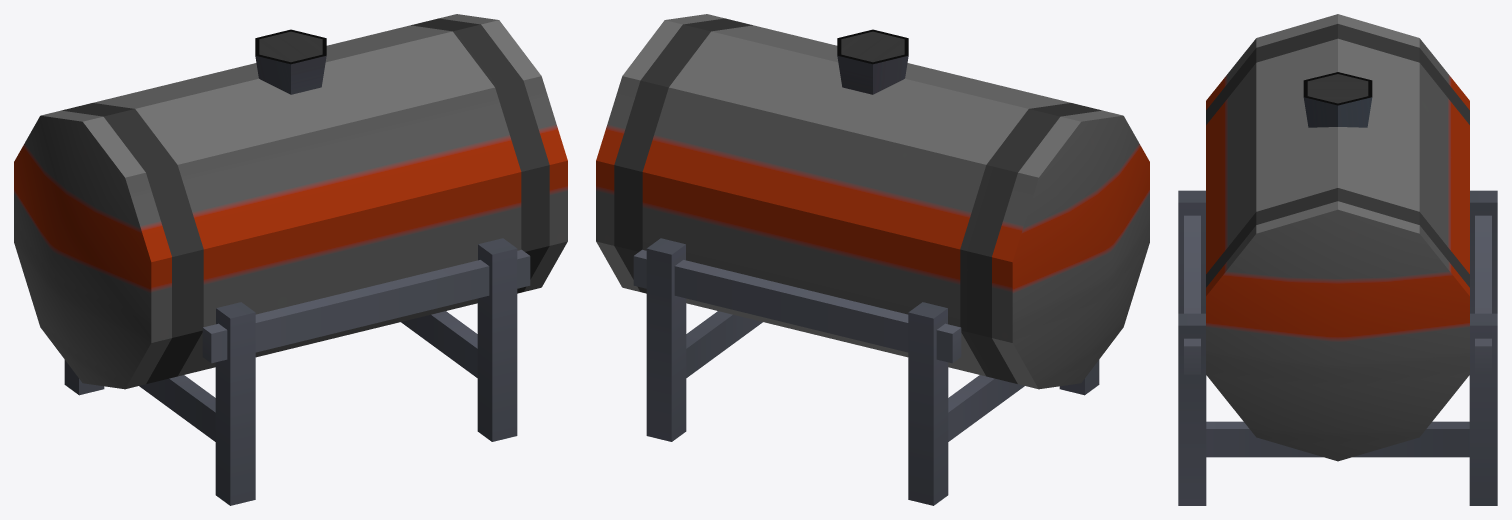
Rendered from SM_Gas_Tank.FBX.
3 renders of one model, left to right at view 1: azimuth 30°, elevation 25°; view 2: azimuth 150°, elevation 25°; view 3: azimuth 270°, elevation 25°, orthographic. The views are drawn at different scales.
Parts seen in each view (by area): view 1: SM_Gas_Tank; view 2: SM_Gas_Tank; view 3: SM_Gas_Tank.
Boxes of the visible parts, <box> form: SM_Gas_Tank: <box>14,14,567,505</box>; SM_Gas_Tank: <box>596,14,1149,505</box>; SM_Gas_Tank: <box>1178,14,1497,505</box>.
Size of what is drawn, in the model's own units: 402 by 241 by 292.
